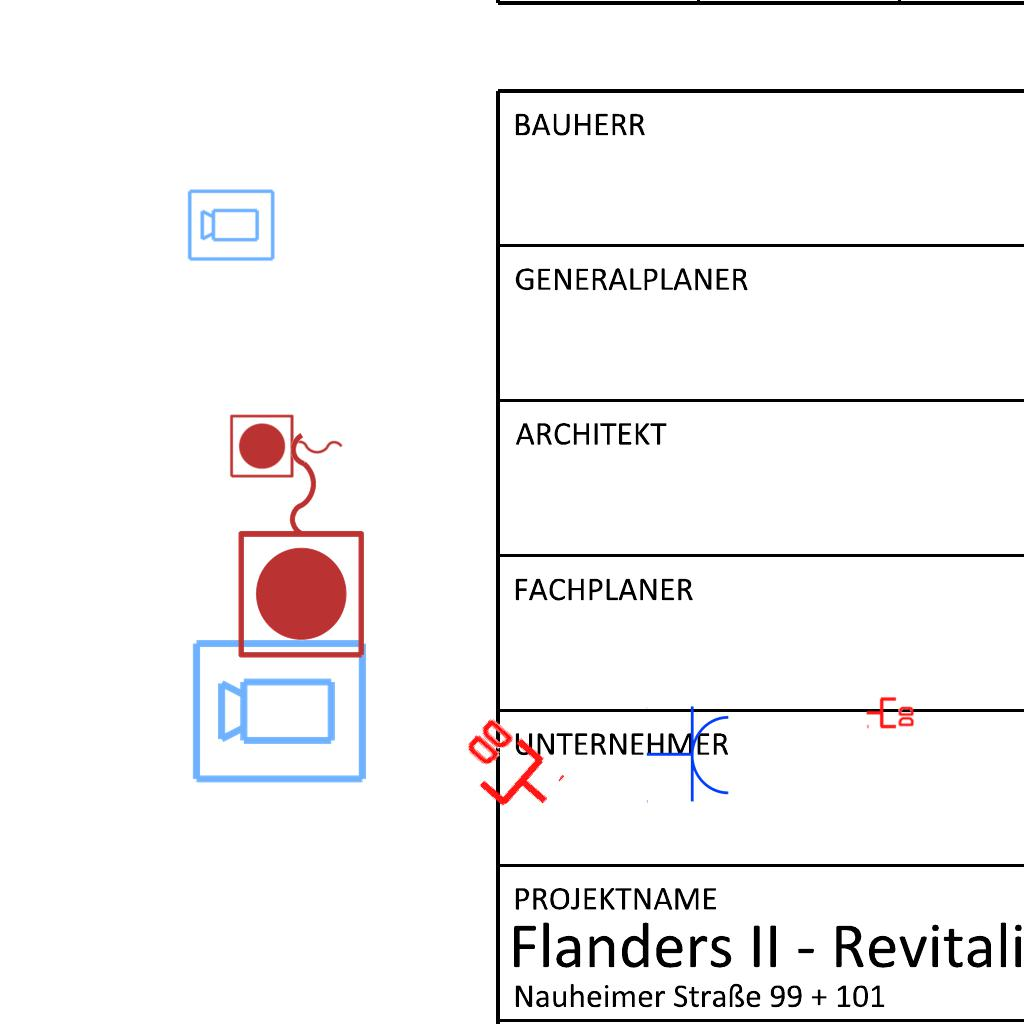Datenanschluss_zweifach: (445, 710, 570, 831), (865, 695, 916, 729)
KFO_Kamera_mit_Festobjektiv: (189, 633, 371, 787), (186, 186, 277, 263)
Schukosteckdose_einfach: (646, 705, 733, 805)
Zugtaster: (231, 422, 375, 666), (226, 411, 348, 483)
